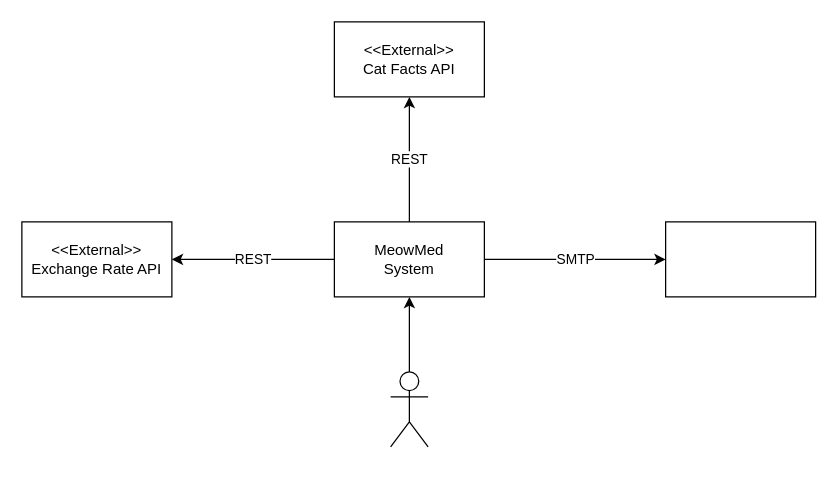
This 838x495 diagram has some shape labels left out. Here are the shapes that lost their labels. From the top down, the centre of each, then its label:
pixel 740 259: Google Mail
pixel 408 409: Sachbearbeiter
